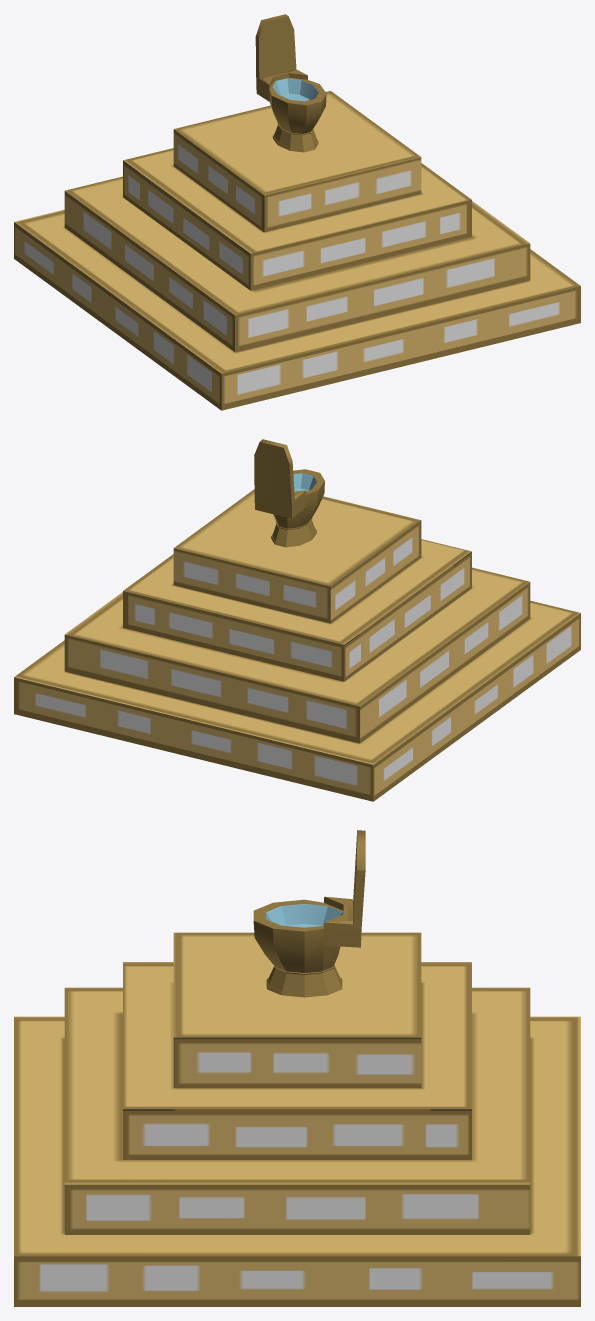
Rendered from building_holyseat_rev1.fbx.
The picture shows the model from 3 angles, top to bottom: view 1: azimuth 30°, elevation 25°; view 2: azimuth 150°, elevation 25°; view 3: azimuth 270°, elevation 25°; orthographic projection. The views are drawn at different scales.
Parts seen in each view (by area): view 1: holyseat1; view 2: holyseat1; view 3: holyseat1.
Part boxes in pixels (<box>): holyseat1: <box>14,14,580,410</box>; holyseat1: <box>14,439,580,801</box>; holyseat1: <box>14,830,580,1306</box>.
Size of the model in its own units: 12.93 by 8.79 by 12.93.
Materials: 1 (1 with a texture image).
